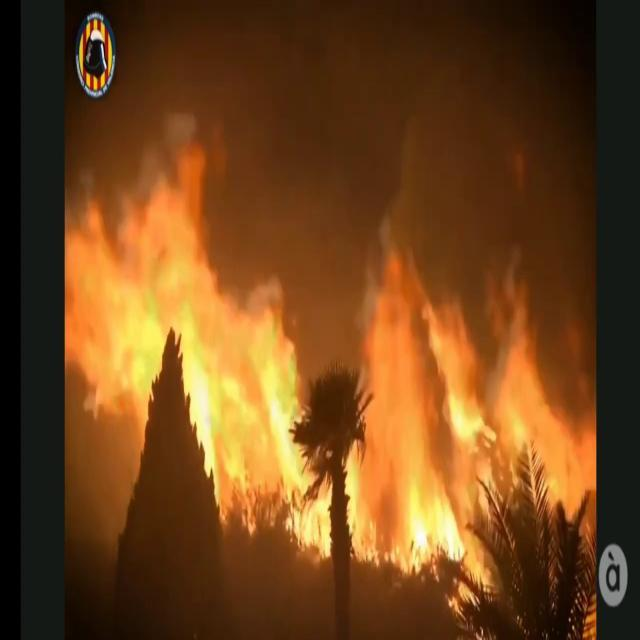Fire: (66, 146, 596, 584)
